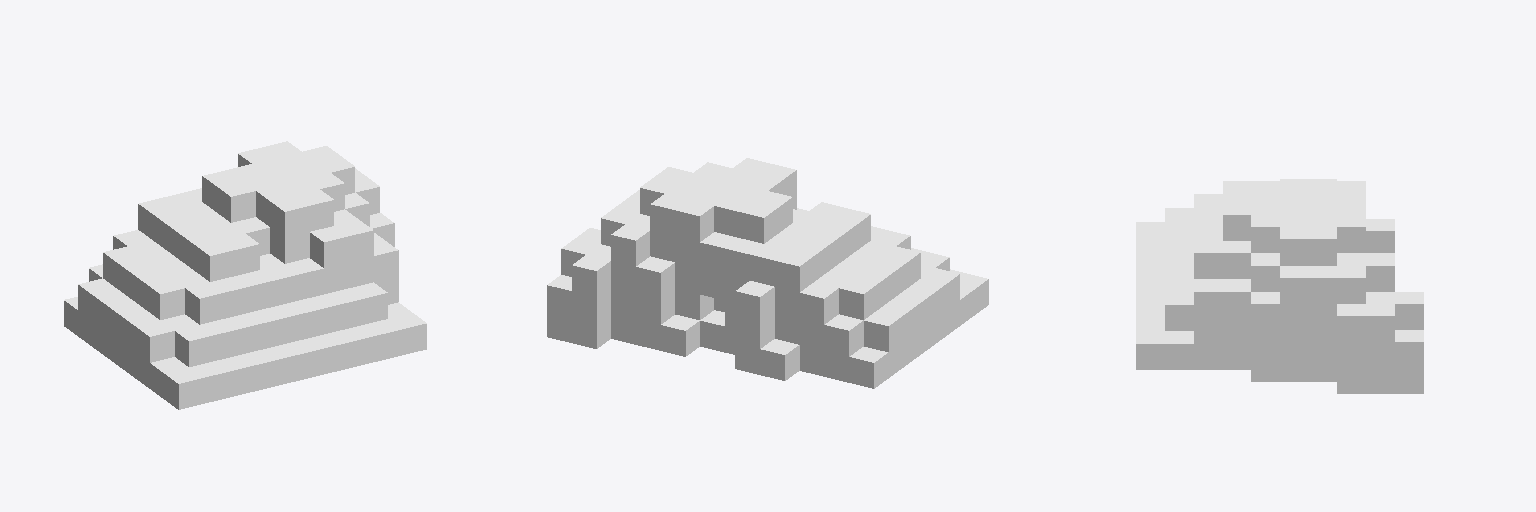
Rendered from kamien.obj.
3 renders of one model, left to right at view 1: azimuth 30°, elevation 25°; view 2: azimuth 150°, elevation 25°; view 3: azimuth 270°, elevation 25°, orthographic.
Parts seen in each view (by area): view 1: object 1; view 2: object 1; view 3: object 1.
Boxes of the visible parts, x1=… form: object 1: x1=64, y1=141, x2=426, y2=409; object 1: x1=547, y1=158, x2=988, y2=388; object 1: x1=1136, y1=179, x2=1423, y2=393.
Size of the model in its own units: 1.2 by 0.5 by 1.